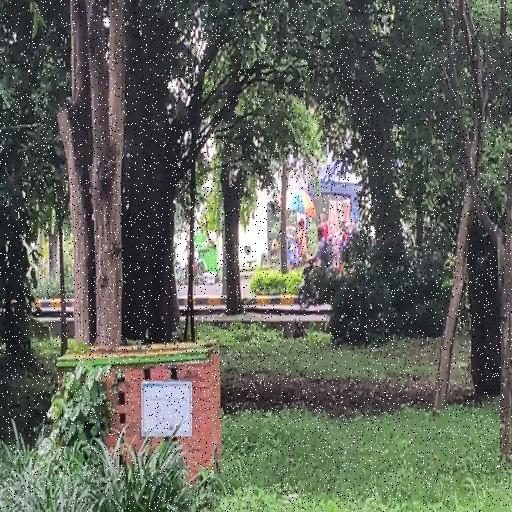Motor: (298, 259, 316, 308)
